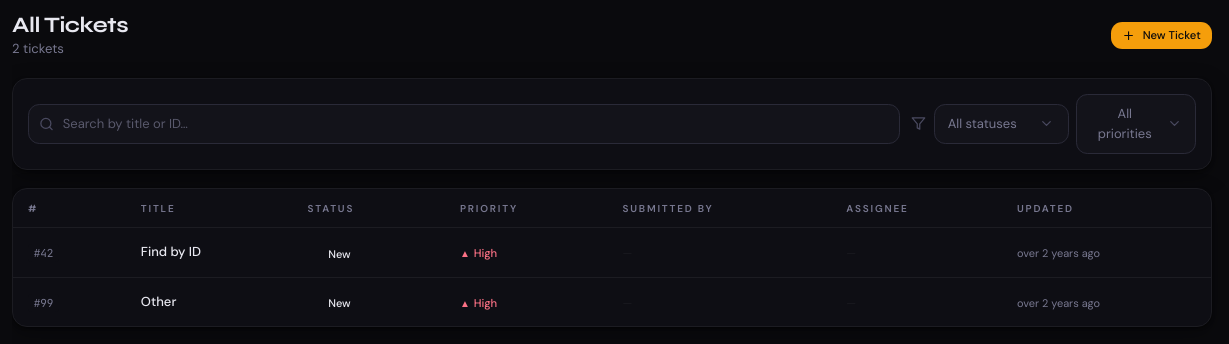
Test: TicketsPage — search filter › filters by ID
Expected: the text "Find by ID" is shown, [141,243,201,260]
Type "42" into the field with placeholder "Search by title or ID…".
click(464, 124); type("42")  # box [28,104,900,144]
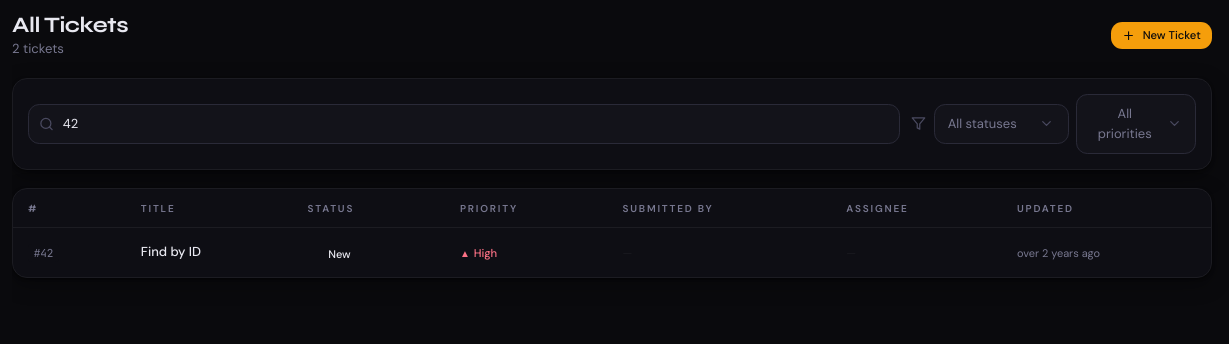
Expected: the text "Find by ID" is shown, [141,243,201,260]
Now the link "Other" is gone
